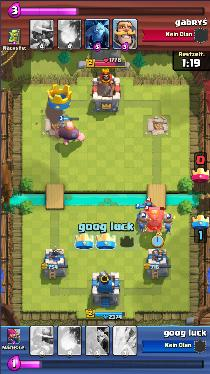ally_giant: (55, 120, 85, 145)
ally_knight: (137, 208, 146, 223)
ally_wallbreaker: (164, 213, 175, 234), (137, 214, 148, 233)
enemy_giant: (142, 208, 168, 234)
enemy_mini_pekka: (140, 201, 157, 208)
